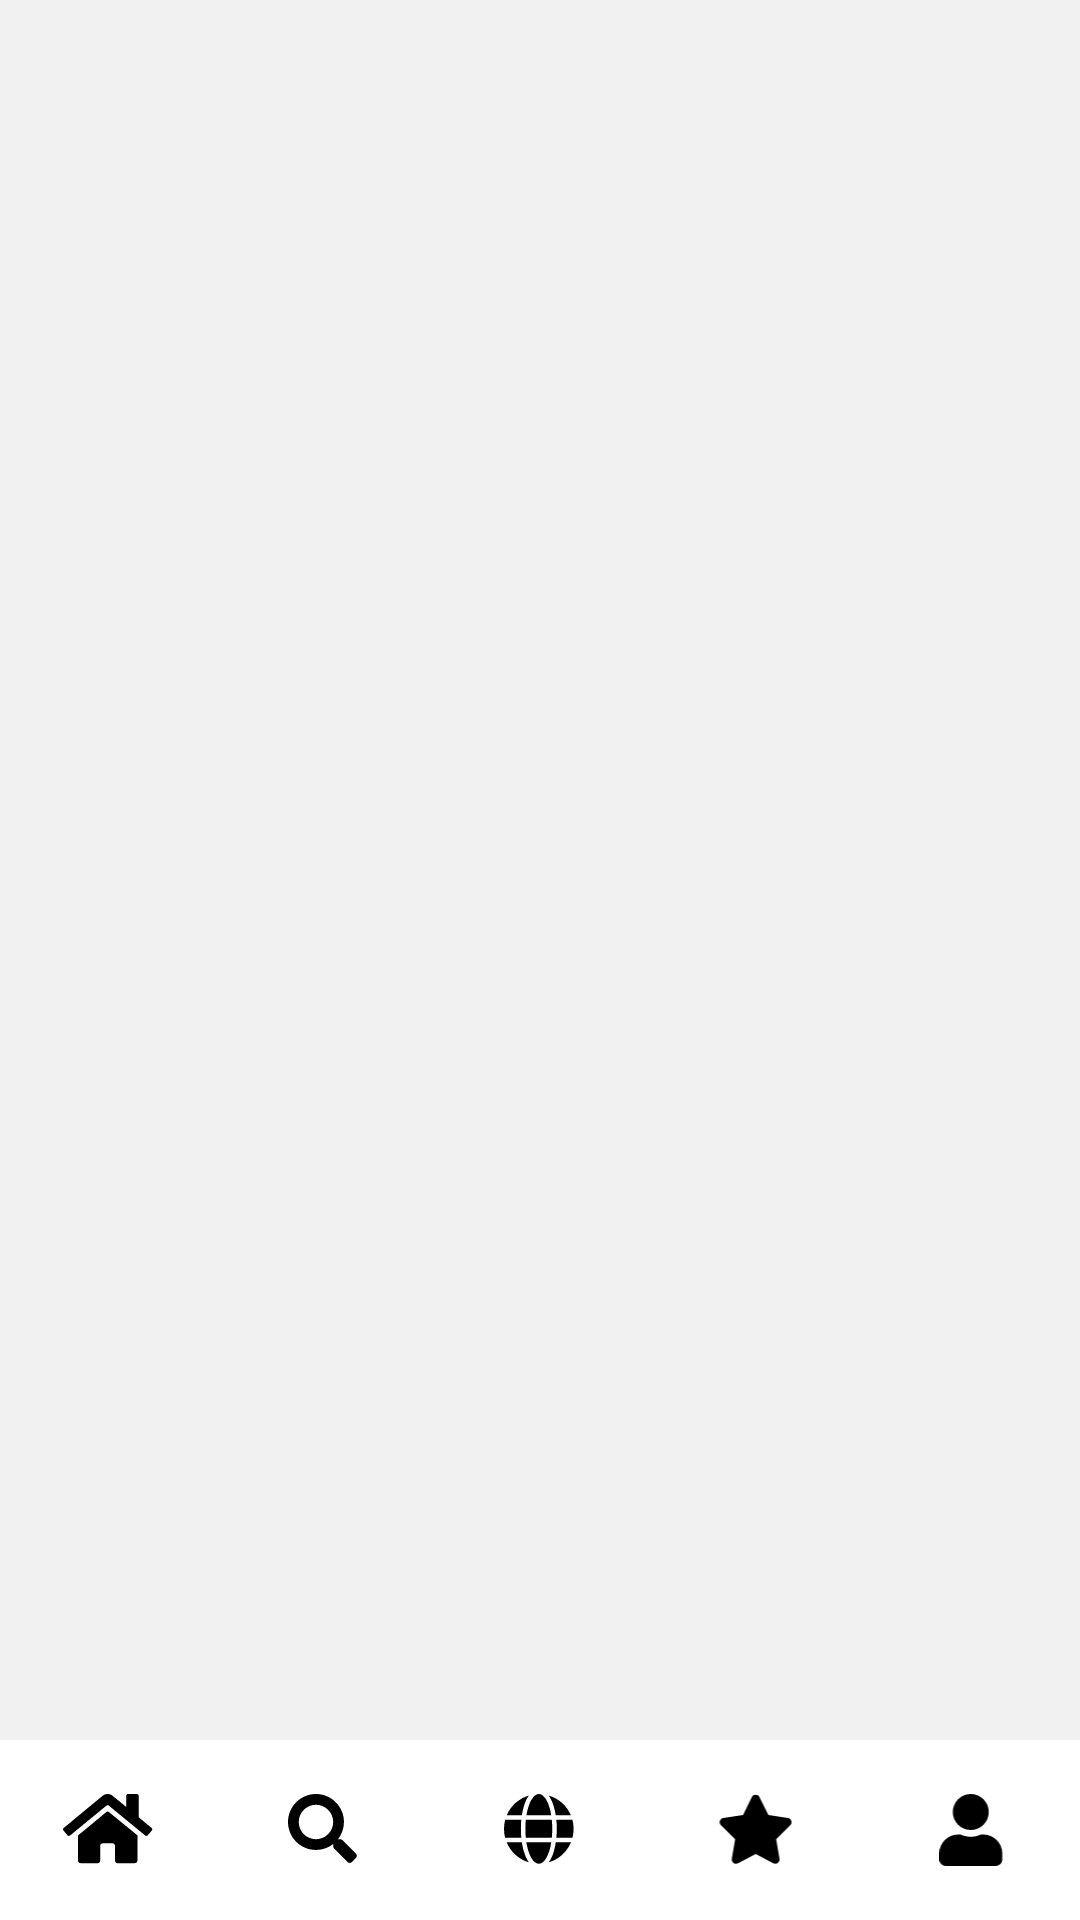

Named icons in this screenshot (1080 x 1920) and their centers, point (x, y):
globe: point (539, 1829)
home: point (108, 1829)
search: point (322, 1828)
star: point (755, 1829)
user: point (971, 1830)
